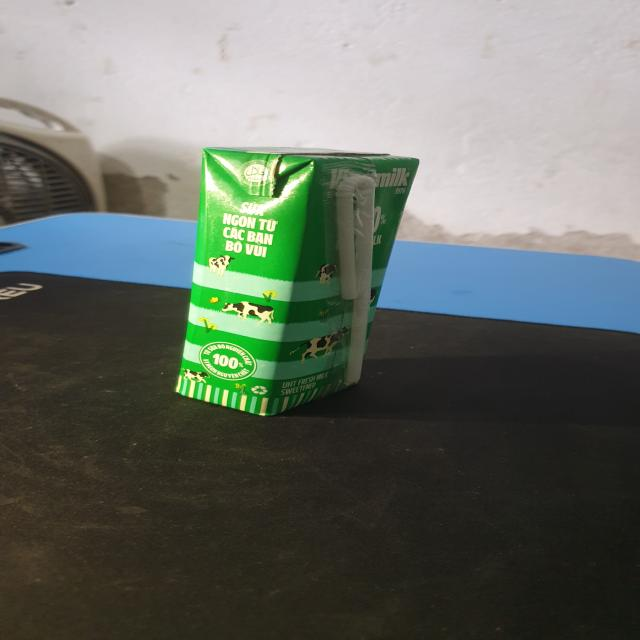Vina: (166, 145, 424, 419)
